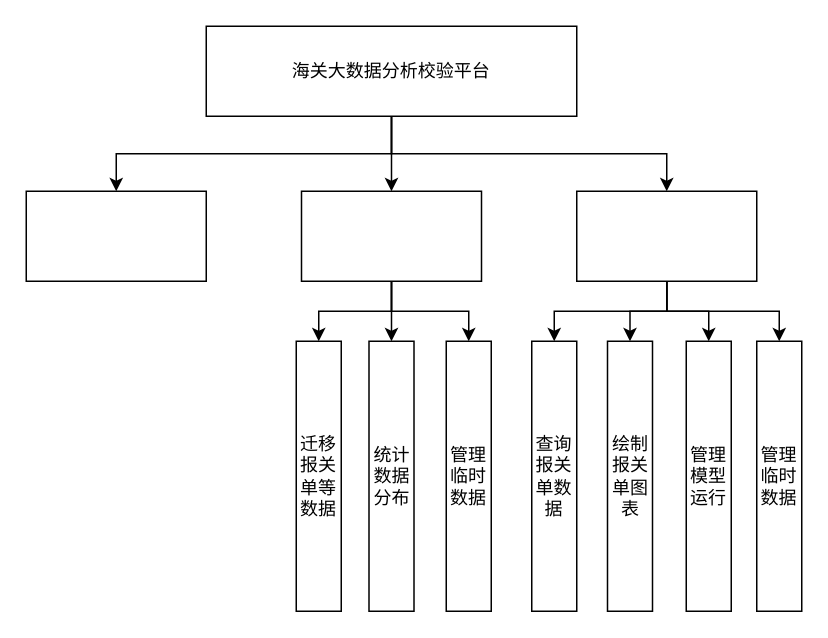
Some shapes in this 828 by 638 pixel diagram are drawn without their labels. The centre of each missing label's shape, as x and y in pixels:
"后台系统" goes at point (666, 235).
"数据更新" goes at point (391, 235).
"模型" goes at point (115, 235).
